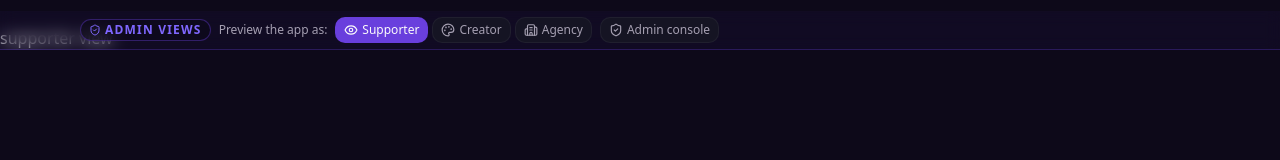
Test: AdminViewSwitcher › clicking Creator navigates to /studio and renders the studio page
Click the link with aria-label "Creator view" at [472, 30], box [432,17,511,43]
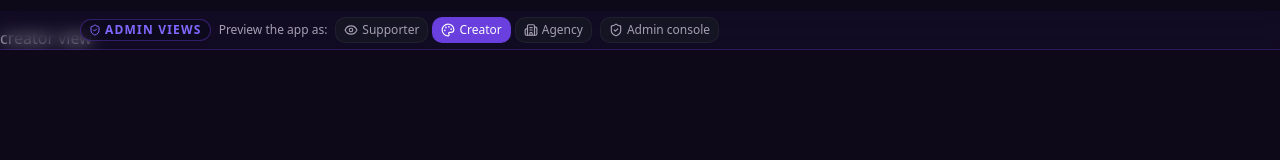
expect the text "creator view" is shown: met, box [0,27,92,49]
